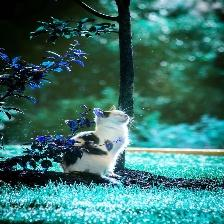kedo: (60, 104, 130, 185)
